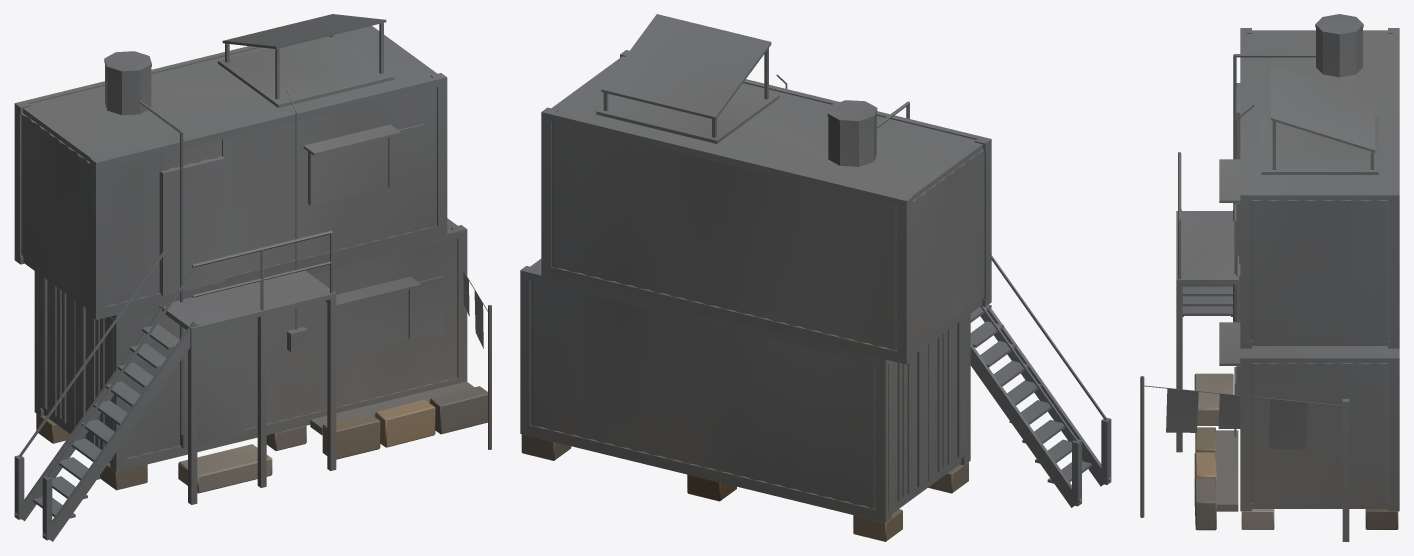
File: WallHomeB_LOD1.glb
3 renders of one model, left to right at view 1: azimuth 30°, elevation 25°; view 2: azimuth 150°, elevation 25°; view 3: azimuth 270°, elevation 25°, orthographic. The views are drawn at different scales.
Visible parts, largest first — view 1: WallHomeB_Metal_LOD1, WallHomeB_Rubble_LOD1, WallHomeB_Sand_LOD1, WallHomeB_Canvas_LOD1; view 2: WallHomeB_Metal_LOD1, WallHomeB_Rubble_LOD1; view 3: WallHomeB_Metal_LOD1, WallHomeB_Rubble_LOD1, WallHomeB_Canvas_LOD1, WallHomeB_Sand_LOD1.
Part boxes in pixels (box(x1,y1,x2,y2)): WallHomeB_Metal_LOD1: box(14, 14, 491, 541); WallHomeB_Rubble_LOD1: box(36, 386, 487, 493); WallHomeB_Sand_LOD1: box(310, 381, 474, 435); WallHomeB_Canvas_LOD1: box(463, 272, 483, 348); WallHomeB_Metal_LOD1: box(520, 14, 1111, 522); WallHomeB_Rubble_LOD1: box(521, 434, 968, 541); WallHomeB_Metal_LOD1: box(1140, 14, 1399, 541); WallHomeB_Rubble_LOD1: box(1194, 373, 1398, 530); WallHomeB_Canvas_LOD1: box(1166, 388, 1307, 449); WallHomeB_Sand_LOD1: box(1215, 430, 1238, 511).
Bounding box in the file's own units: 8.27 × 6.51 × 3.97.
